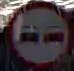No overtake: (4, 0, 70, 63)
